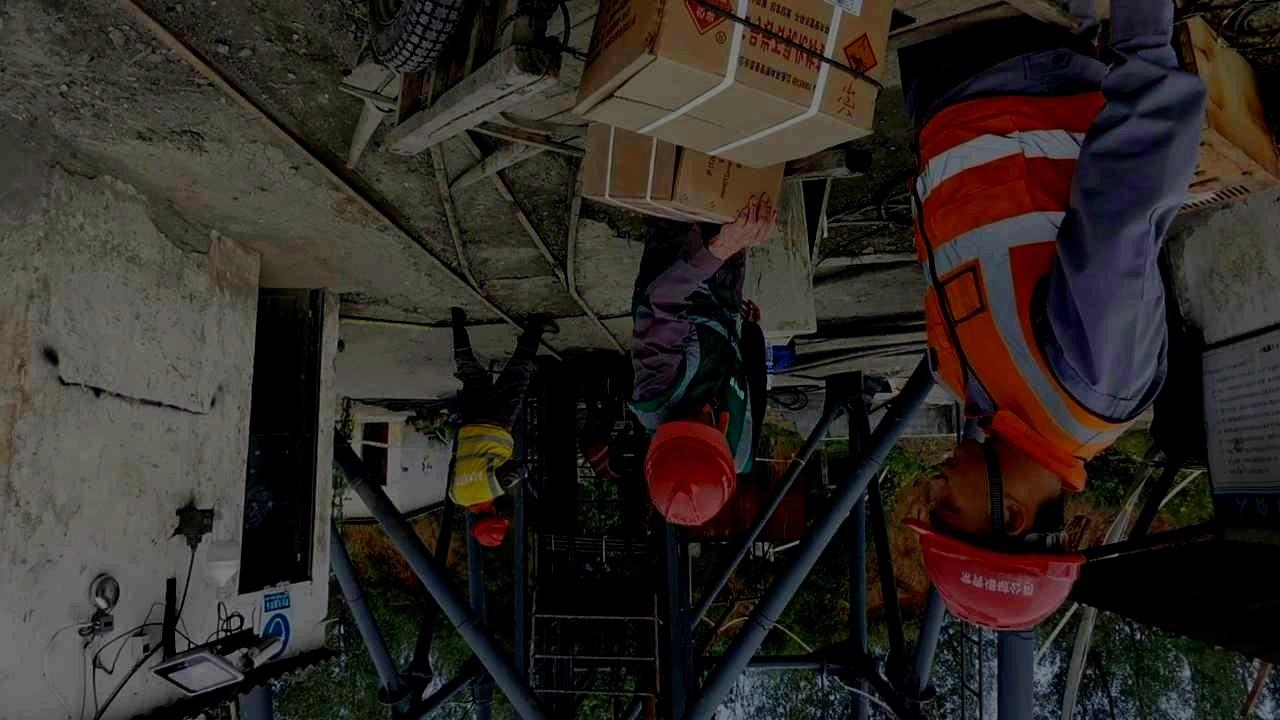helmet: (899, 440, 1087, 632), (643, 409, 738, 528), (470, 504, 511, 548)
